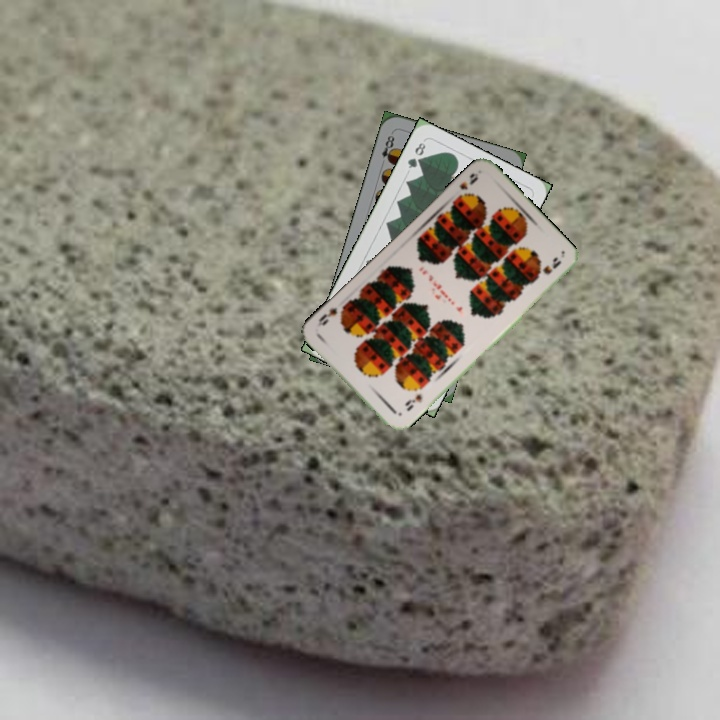E8: (377, 129, 397, 165)
G8: (403, 138, 428, 171)
S9: (452, 169, 481, 203), (401, 390, 425, 414)
